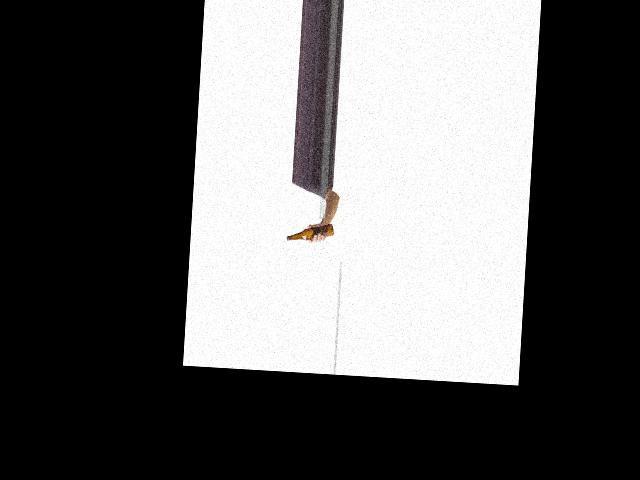beer: (287, 220, 334, 242)
